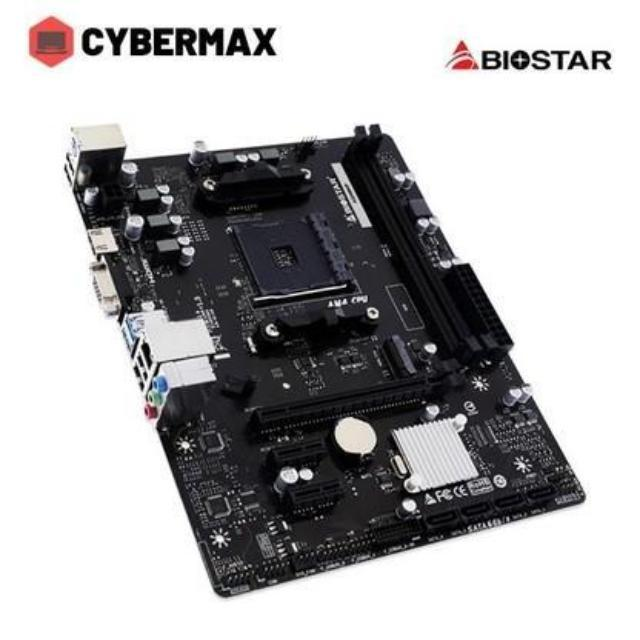Mainboard: (58, 113, 594, 601)
